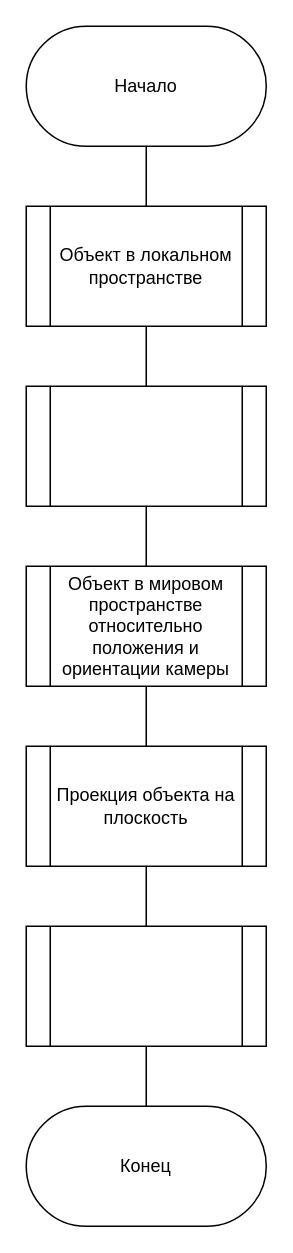
The diagram is 293 pixels wide and 1253 high, and some of its shapes have lost their labels. The centre of each missing label's shape, as x and y in pixels:
"Объект в мировом пространстве" belongs at point (145, 445).
"Объект в экранном пространстве" belongs at point (145, 985).
